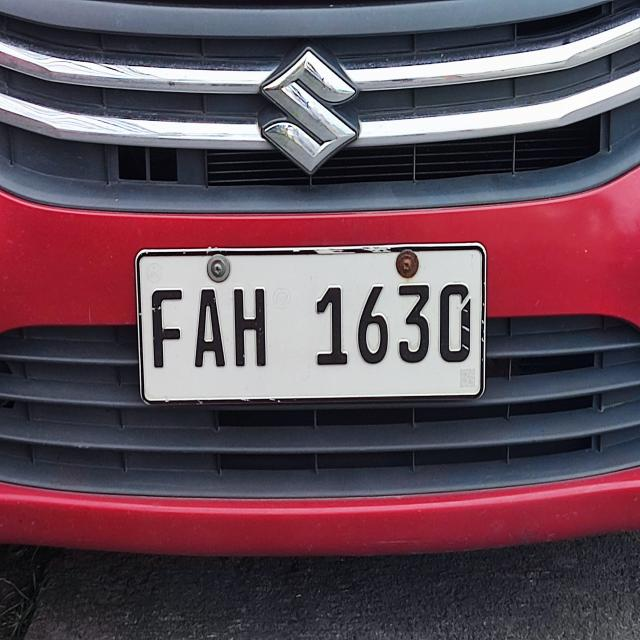plate: (132, 239, 490, 409)
